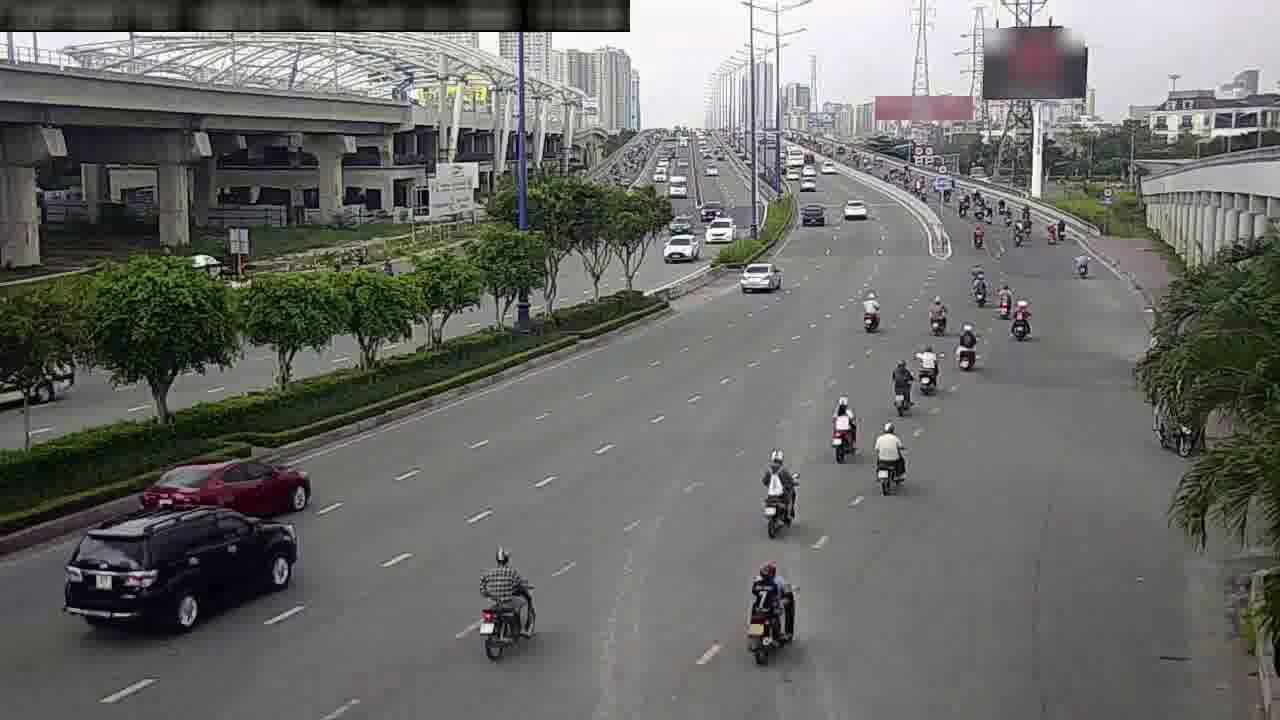container: (68, 508, 297, 629), (138, 459, 312, 509), (738, 262, 781, 291), (797, 203, 826, 229), (839, 199, 867, 220)
motorbike: (475, 547, 535, 660), (745, 558, 798, 661), (763, 447, 795, 538), (874, 420, 908, 492), (833, 392, 856, 464), (889, 354, 911, 416), (917, 344, 939, 395), (925, 294, 949, 337), (955, 321, 976, 370), (1010, 300, 1032, 342), (861, 291, 882, 334), (1074, 250, 1090, 280), (996, 285, 1010, 317), (973, 276, 987, 305)
